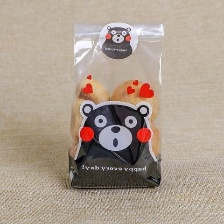snack: (61, 15, 173, 195)
